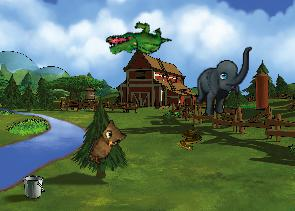crocodile: (103, 11, 172, 70)
elephant: (195, 46, 252, 116)
owl: (86, 117, 130, 171)
